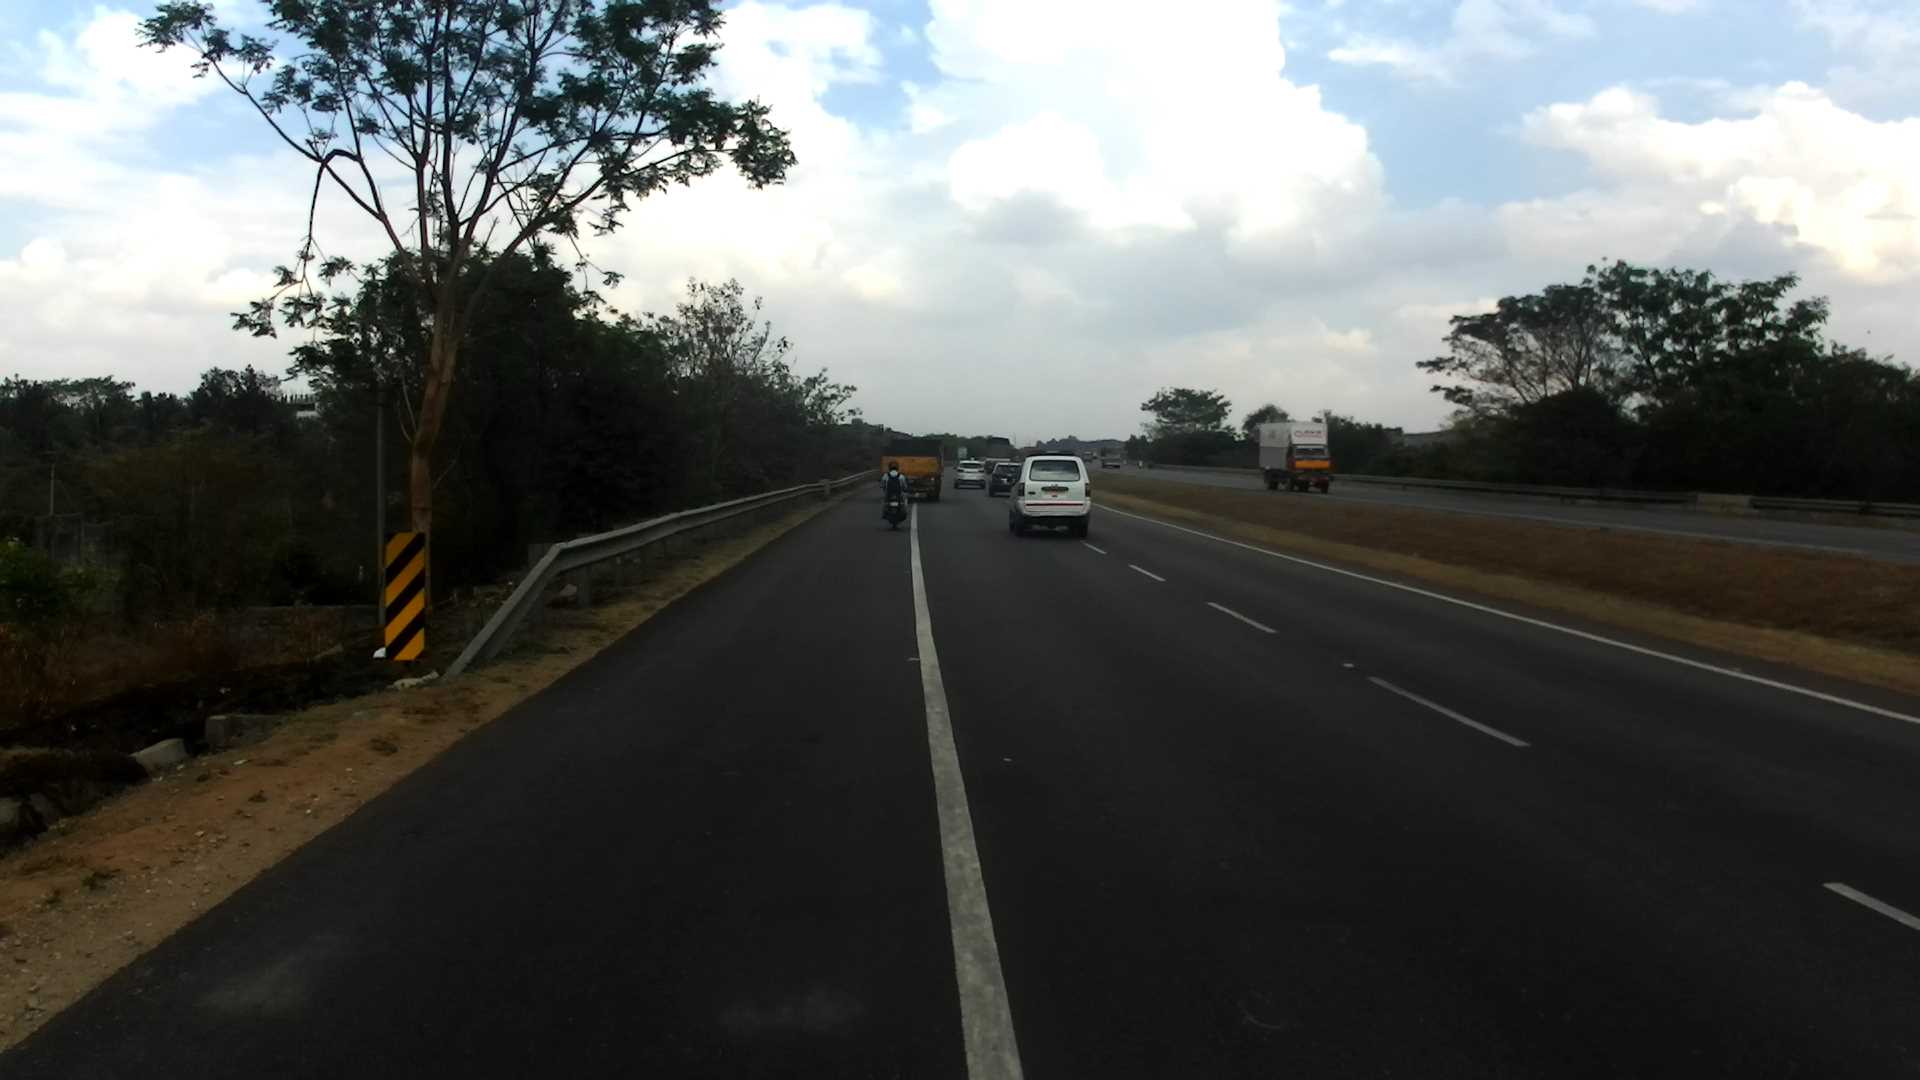bike: (870, 458, 919, 531)
car: (1000, 450, 1124, 549), (993, 455, 1034, 502), (956, 455, 992, 493)
truck: (839, 429, 971, 505), (1251, 414, 1348, 498), (1096, 444, 1125, 471)
